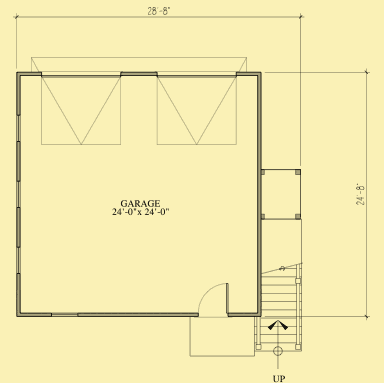door: (195, 283, 230, 317)
stairs: (255, 263, 304, 353)
window: (16, 113, 23, 143), (14, 178, 21, 208), (15, 245, 22, 275)
